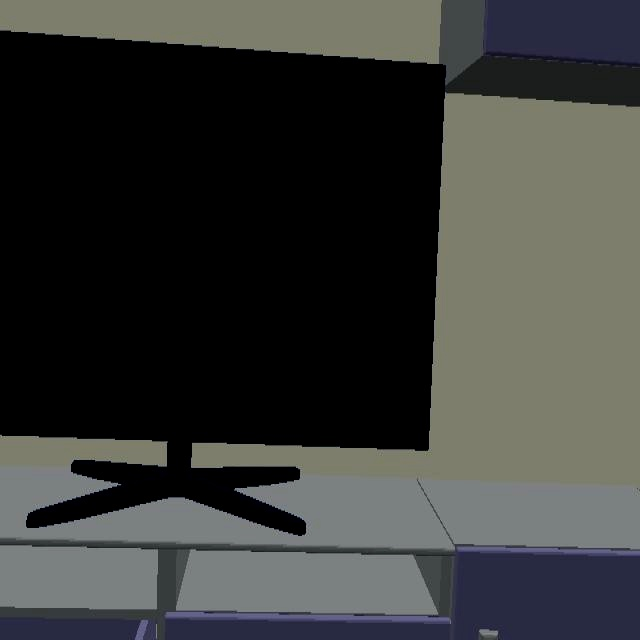cabinet: (0, 465, 640, 640), (439, 0, 640, 107)
monitor: (0, 31, 445, 537)
